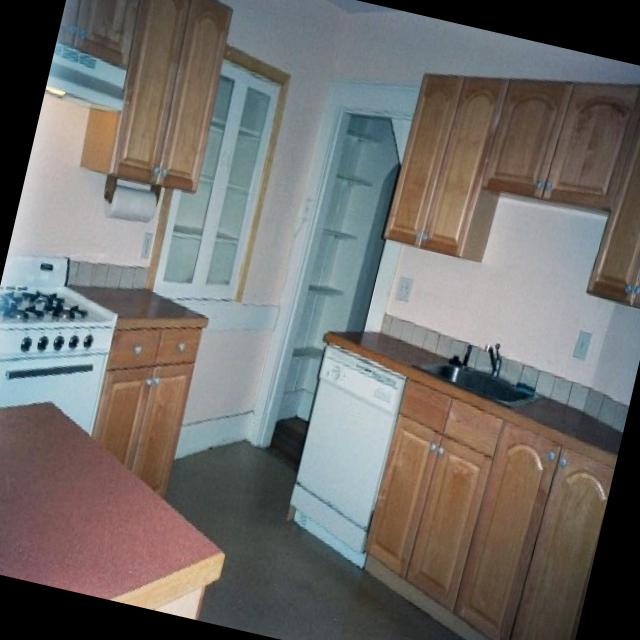2006: (154, 58, 279, 300)
2036: (325, 325, 622, 467)
ceiling beam: (321, 0, 388, 13)
cupboard: (67, 283, 208, 496)
cupboard crop: (447, 418, 614, 640), (363, 374, 500, 628), (83, 0, 234, 193), (386, 69, 504, 265), (481, 73, 640, 209), (64, 0, 141, 62)
cupboard door: (588, 115, 640, 305)
dishwasher: (283, 340, 409, 562)
extractor hood: (51, 39, 132, 110)
faucet handle: (483, 335, 503, 367)
paper cup with straws: (103, 193, 156, 221)
sink basin: (421, 356, 530, 403)
socket: (389, 274, 416, 309), (571, 326, 593, 359)
stove oven: (0, 252, 116, 434)
table lamp: (0, 399, 225, 616)
wall clock: (244, 8, 640, 640), (0, 0, 338, 503), (0, 416, 550, 640), (297, 114, 399, 434), (277, 113, 366, 419)
